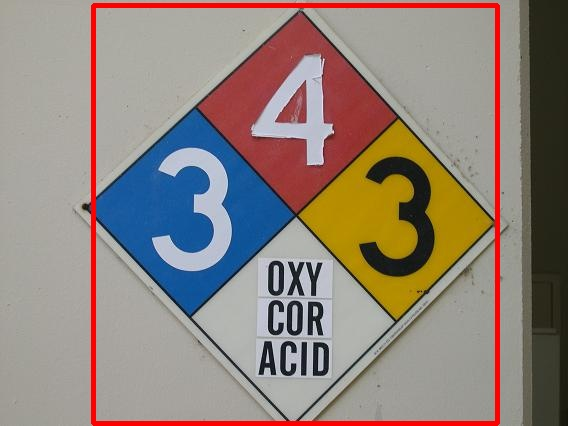nfpa: (93, 5, 497, 423)
